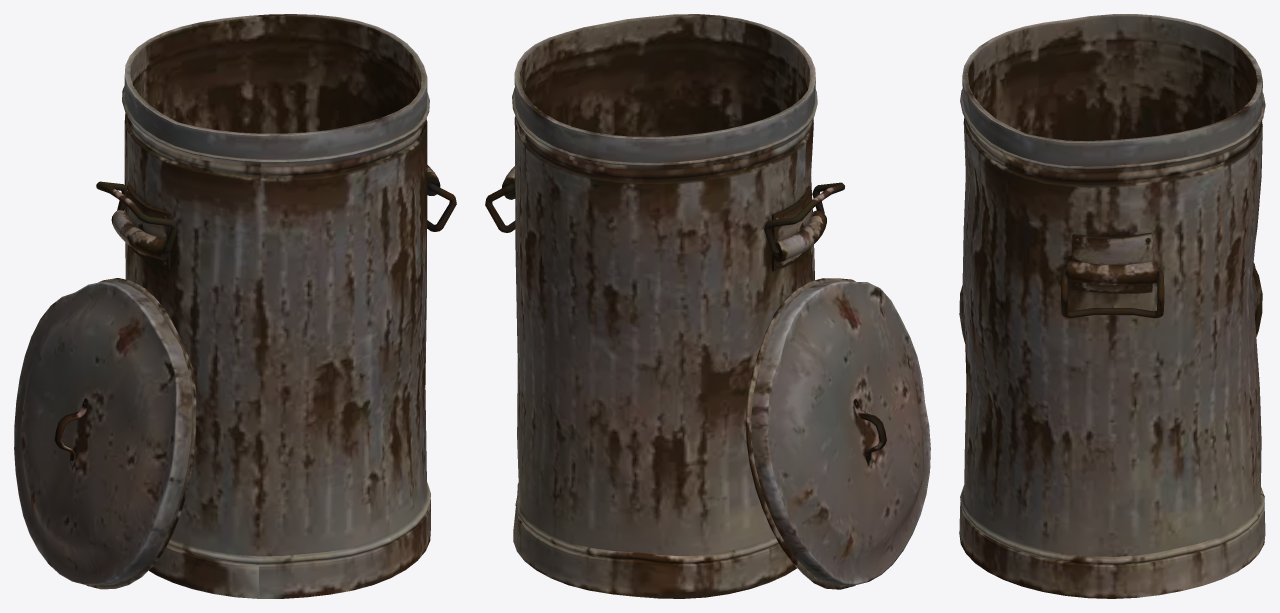
Rendered from trash_can.glb.
3 renders of one model, left to right at view 1: azimuth 30°, elevation 25°; view 2: azimuth 150°, elevation 25°; view 3: azimuth 270°, elevation 25°, orthographic.
Visible parts, largest first — view 1: trash_can; view 2: trash_can; view 3: trash_can.
Part boxes in pixels (x1,y1,x2,y2): trash_can: [14, 14, 456, 598]; trash_can: [485, 14, 930, 598]; trash_can: [959, 14, 1265, 598].
Bounding box in the file's own units: 0.7733 × 0.9062 × 0.5484.
1 material, 1 textured.
